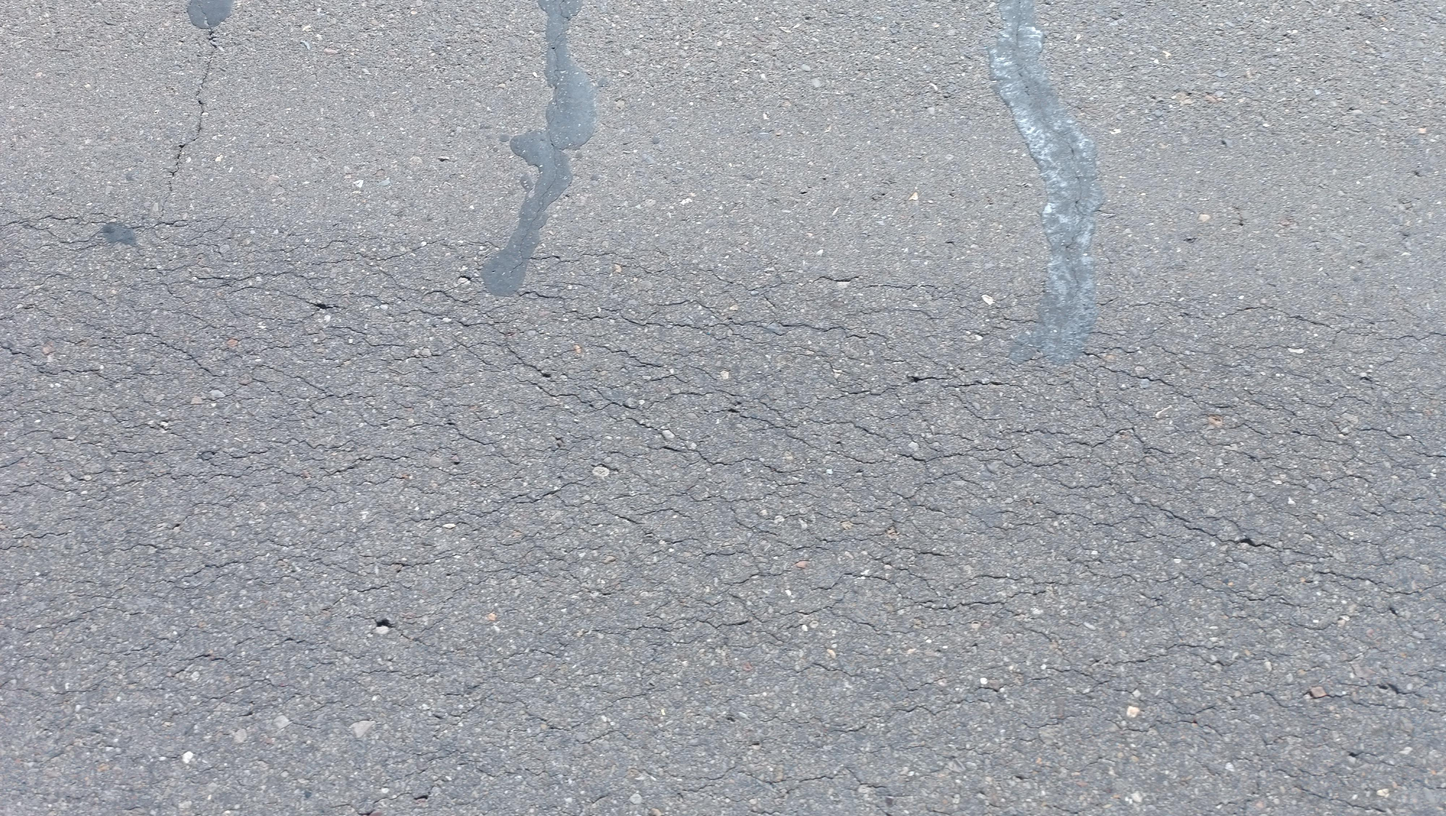GRIETA: (161, 4, 218, 210)
PARCHE: (989, 0, 1103, 364), (482, 0, 596, 294), (188, 0, 232, 29)
PIEL DE COCODRILO: (0, 209, 1446, 816)
